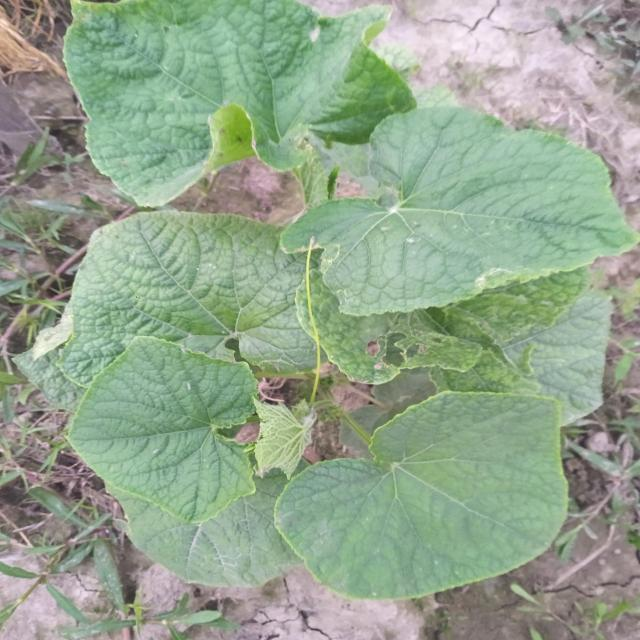cucumber_healthy: (274, 101, 638, 317), (59, 0, 410, 207), (270, 382, 570, 606), (52, 202, 328, 404), (64, 332, 258, 526)
